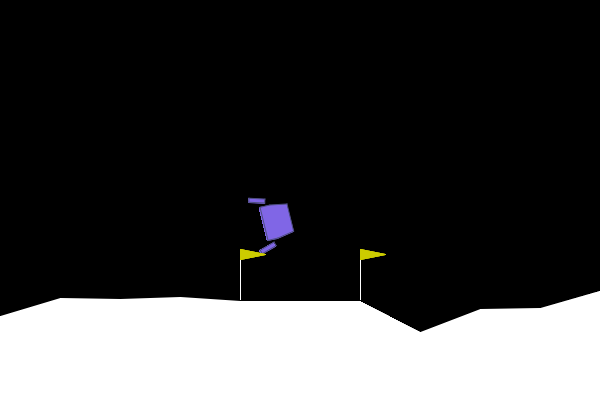lander: (246, 188, 299, 256)
